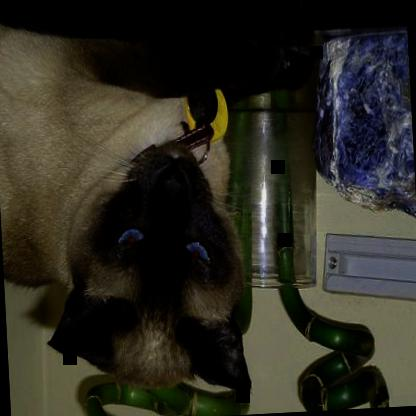cat: (0, 0, 330, 407)
